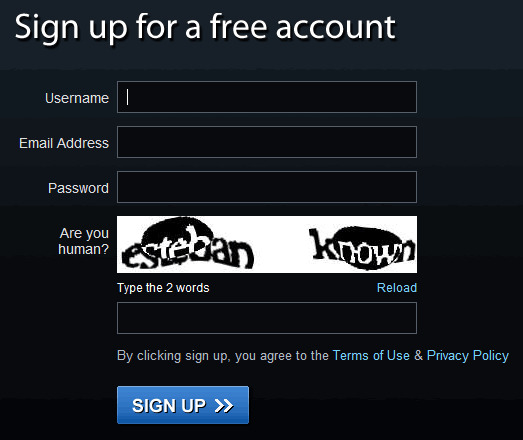_form_: (16, 24, 432, 440)
button: (116, 385, 250, 424)
field: (114, 80, 418, 113), (114, 126, 418, 159), (115, 171, 419, 203), (115, 302, 419, 334)
field_with_label: (111, 282, 422, 335), (19, 124, 420, 161), (43, 78, 419, 115), (46, 170, 422, 205)
